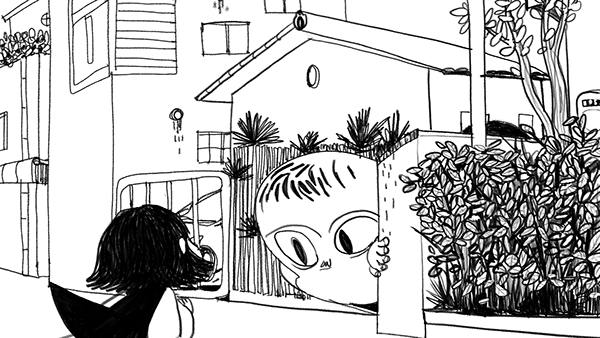bird: (247, 147, 451, 316)
